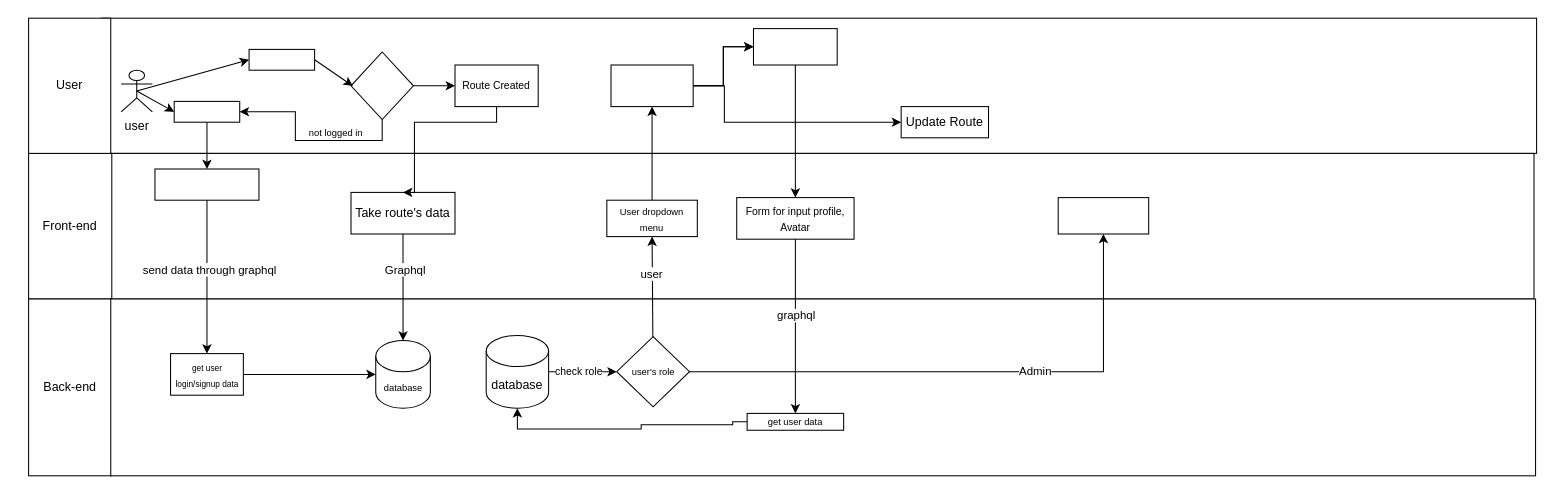
This 1555x494 diagram has some shape labels left out. The centre of each missing label's shape, as x and y in pixels:
Admin dropdown menu: the point at 1103,215
Authentication: the point at 381,85
Create Route: the point at 281,59
Login/ Sign up: the point at 206,111
show login/signup modal: the point at 206,184
Update profile: the point at 794,46
user's profile: the point at 651,85
